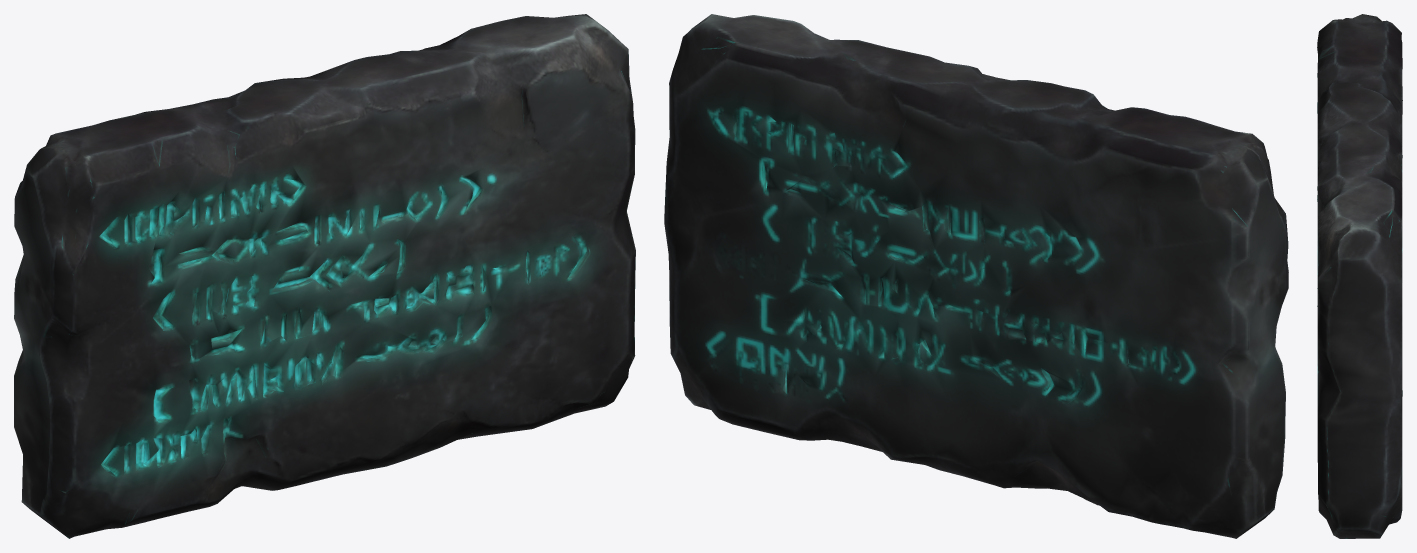
Rendered from crystal-code-tablet.glb.
3 renders of one model, left to right at view 1: azimuth 30°, elevation 25°; view 2: azimuth 150°, elevation 25°; view 3: azimuth 270°, elevation 25°, orthographic. The views are drawn at different scales.
Parts seen in each view (by area): view 1: Mesh1.0; view 2: Mesh1.0; view 3: Mesh1.0.
Boxes of the visible parts, x1=… form: Mesh1.0: x1=14, y1=14, x2=635, y2=538; Mesh1.0: x1=664, y1=14, x2=1288, y2=538; Mesh1.0: x1=1317, y1=14, x2=1402, y2=538.
Size of the model in its own units: 1.91 by 1.19 by 0.298.
Materials: 1 (1 with a texture image).
